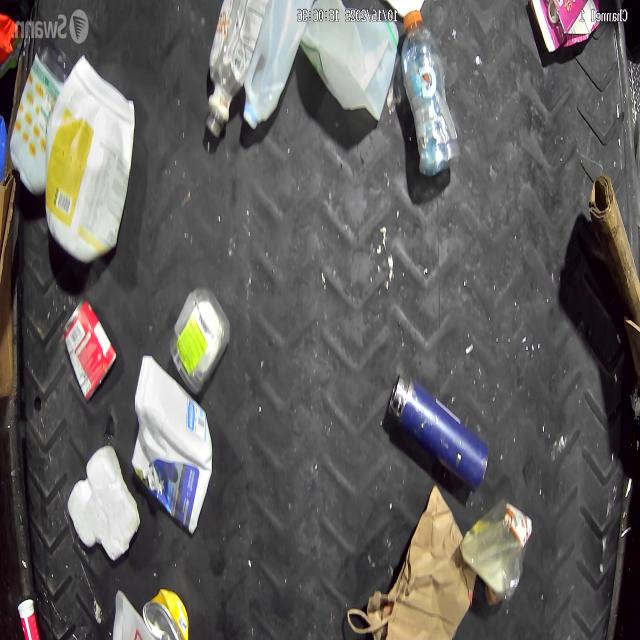can: (56, 303, 122, 394), (142, 590, 190, 640)
milk_jug: (243, 1, 315, 129)
plastic_bottle: (399, 8, 462, 178)
